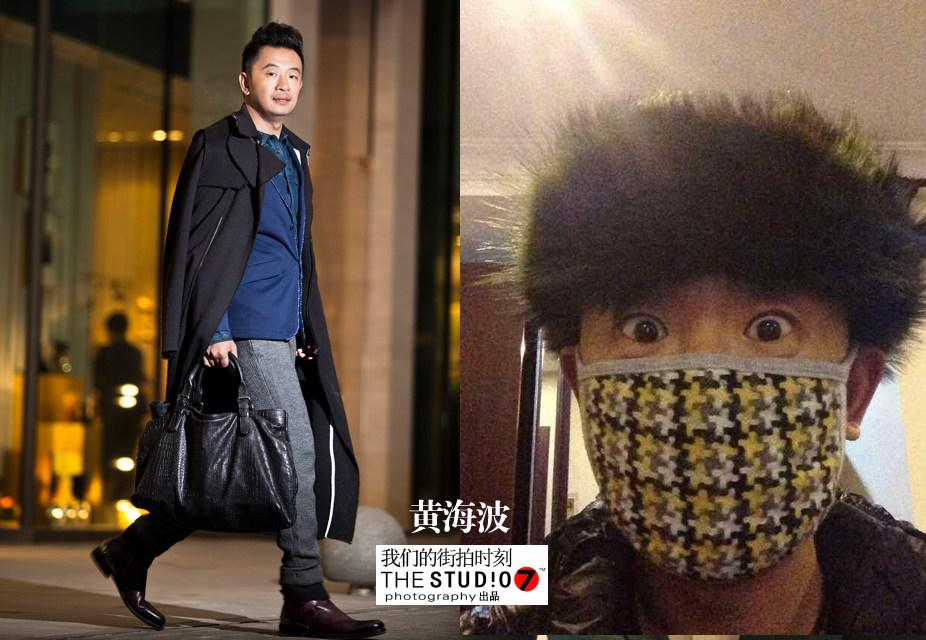NONE: (254, 61, 302, 112)
OK: (552, 252, 874, 574)
